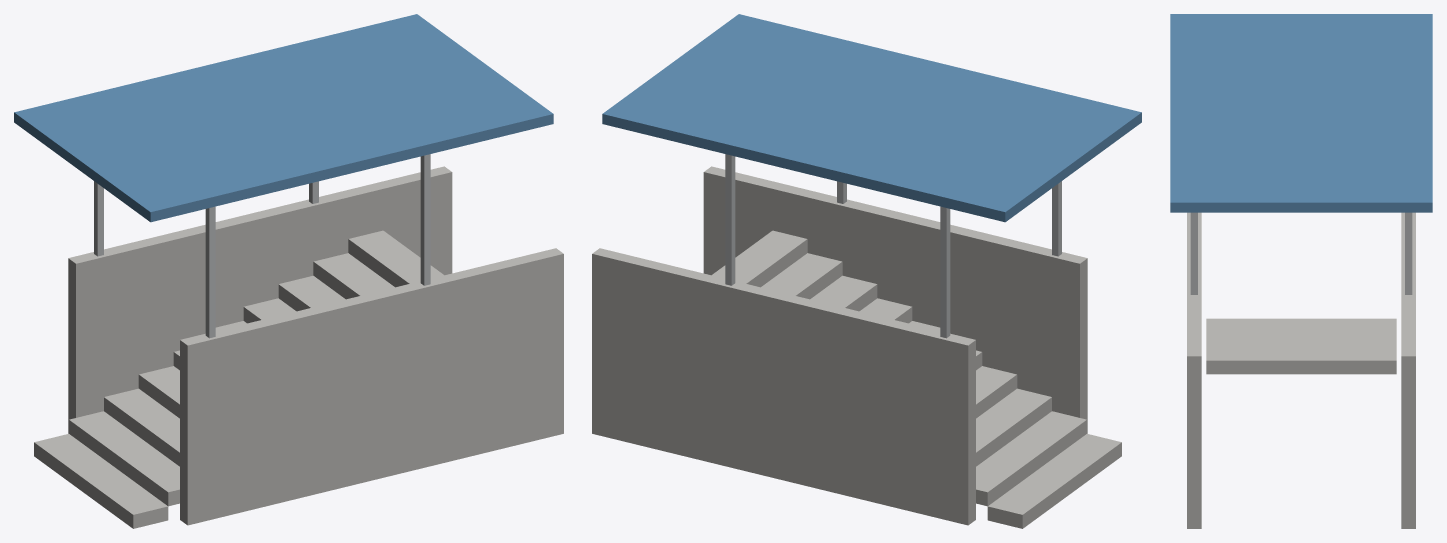
The model's file is 03_stations_3x3-04.glb.
The picture shows the model from 3 angles, left to right: view 1: azimuth 30°, elevation 25°; view 2: azimuth 150°, elevation 25°; view 3: azimuth 270°, elevation 25°; orthographic projection. The views are drawn at different scales.
Size of the model in its own units: 7.85 by 5.88 by 4.4.
